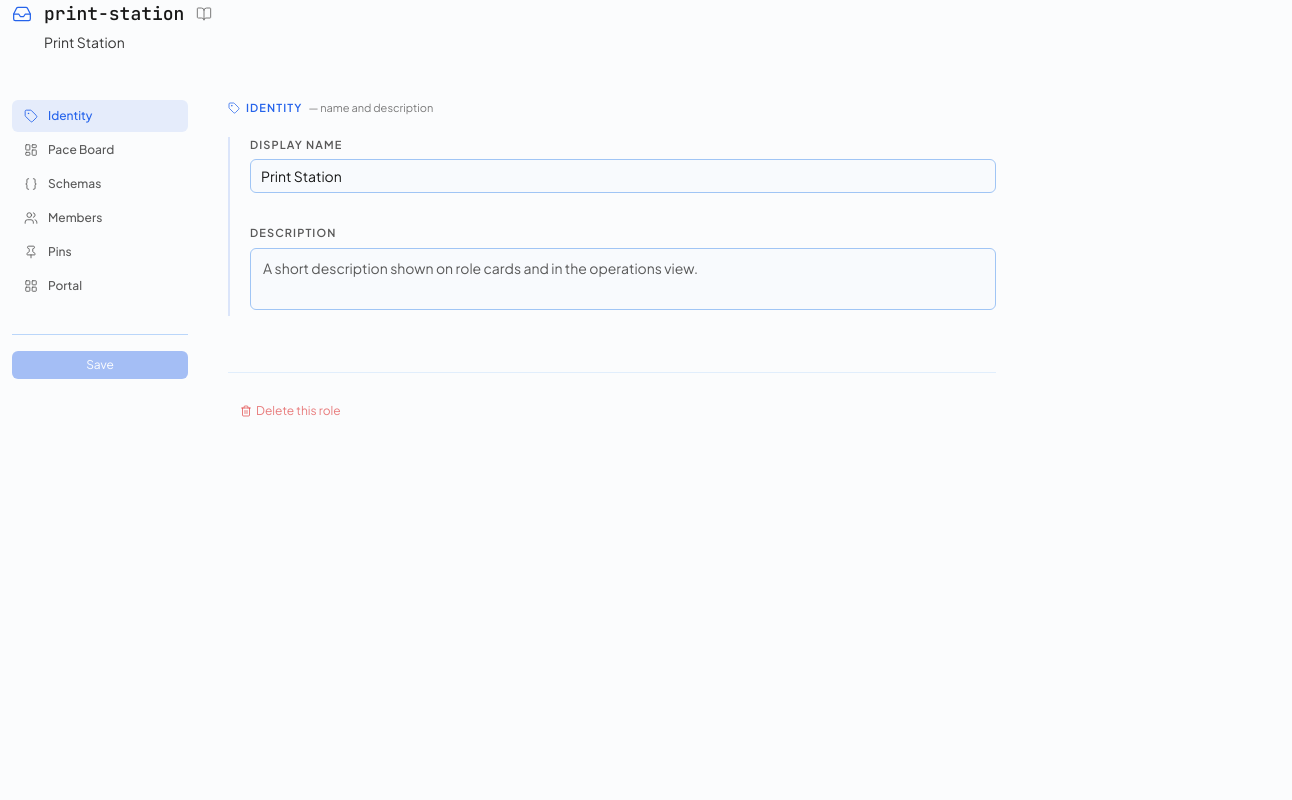
it: RoleDetailPage — section sub-nav › clicking a section sets ?section= in the URL
Click the button "Pace Board".
click(100, 150)  # box [12,134,188,166]
(page scrolled)
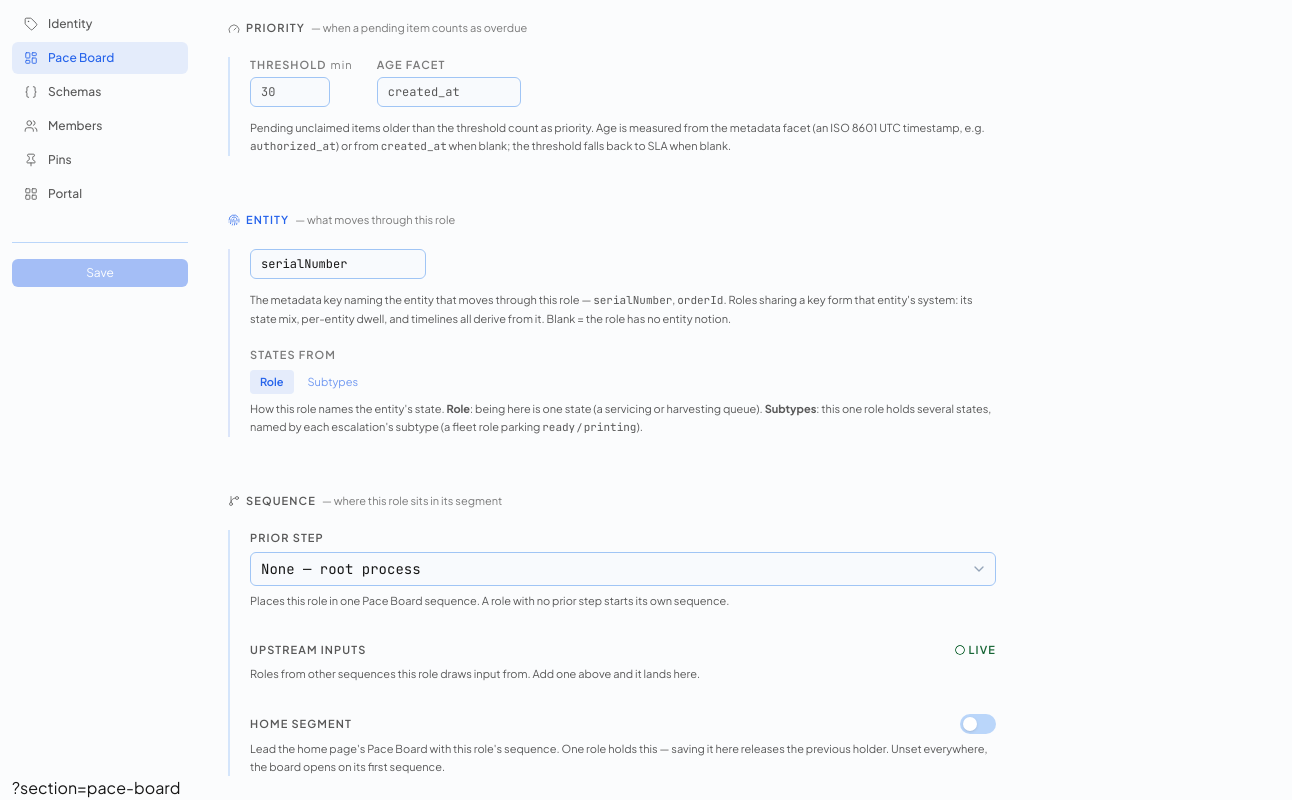
Expected: the text with test id "location-search" shows "section=pace-board", [12,777,180,798]
